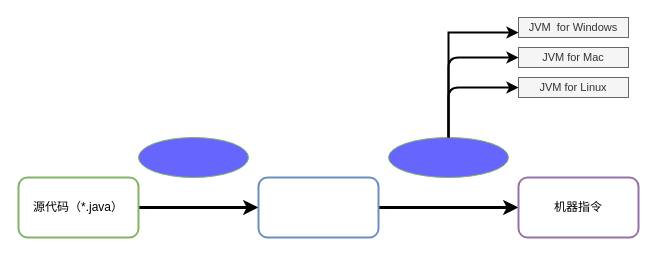
Image size: 656x256. Some labels were removed from this diagram. The shapes that lost their labels are listed below. From the top down, each one's box as (x1, y1, x2, y2) in pixels, then its label:
(138, 136, 248, 178): 编译器编译
(388, 136, 508, 178): 虚拟机中的解释器
(257, 176, 379, 238): 字节码文件（*.class）
